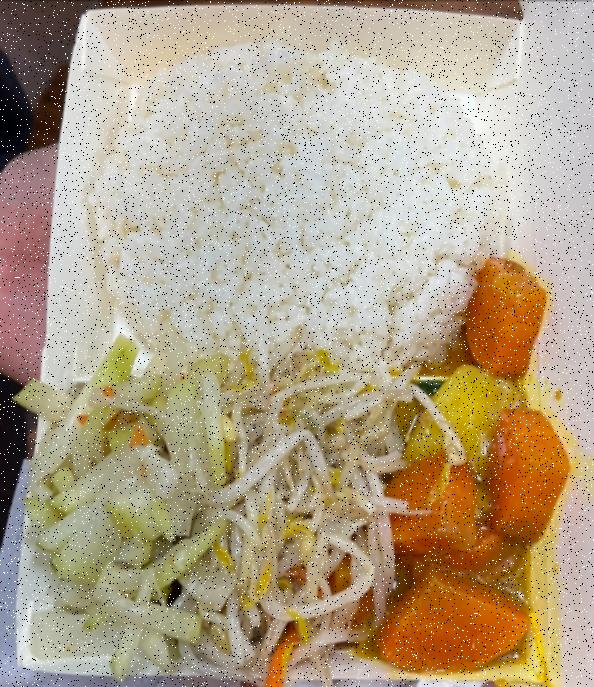big grilled chicken leg: (17, 1, 568, 687)
big herbal chicken leg: (86, 32, 509, 390)
braised fish fillet: (380, 259, 559, 670), (20, 345, 236, 663), (232, 336, 398, 674)
